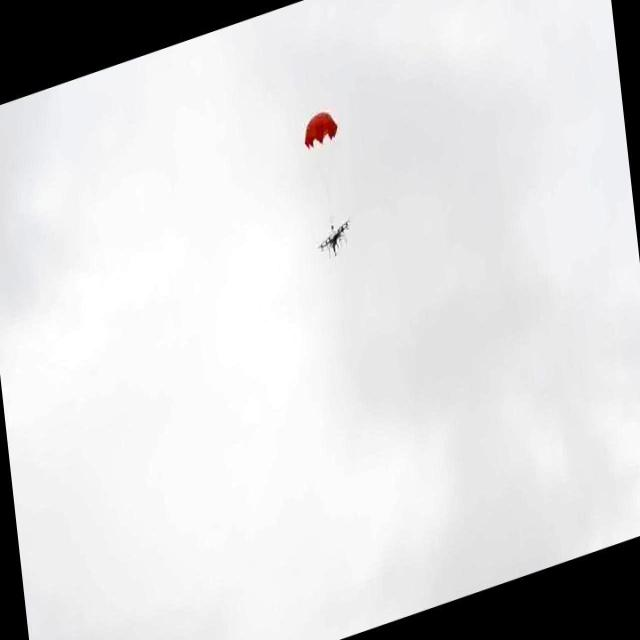drone: (316, 218, 353, 261)
